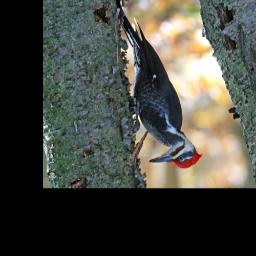Woodpecker: (117, 2, 203, 170)
